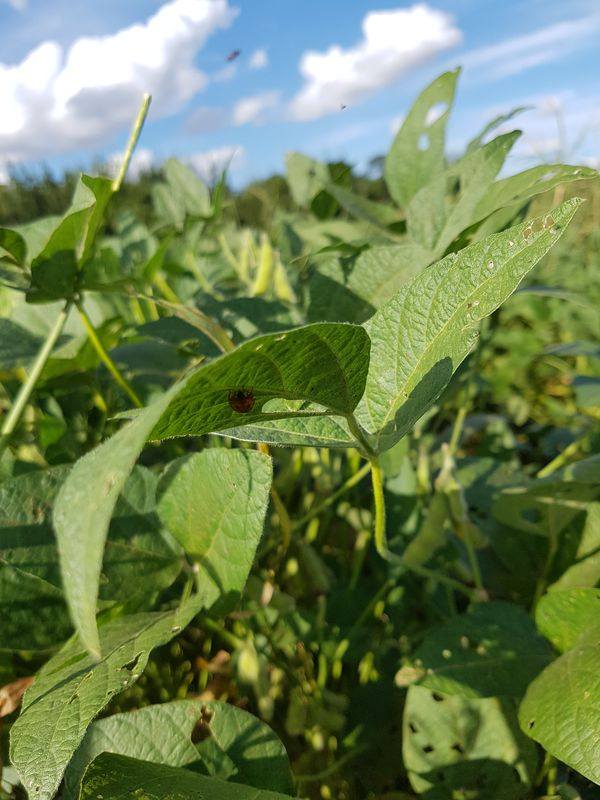Coccinellidae: (218, 378, 266, 425)
